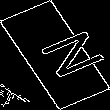N_SW: (15, 26, 95, 84)
